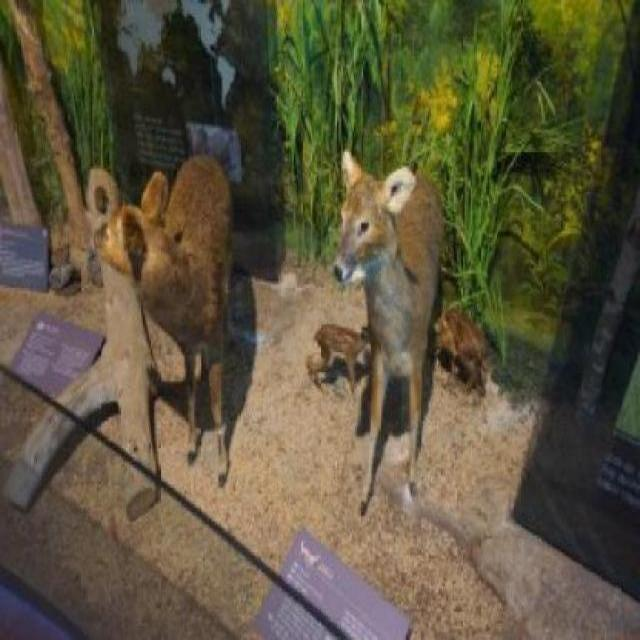deer: (85, 122, 246, 555), (322, 152, 472, 568)
